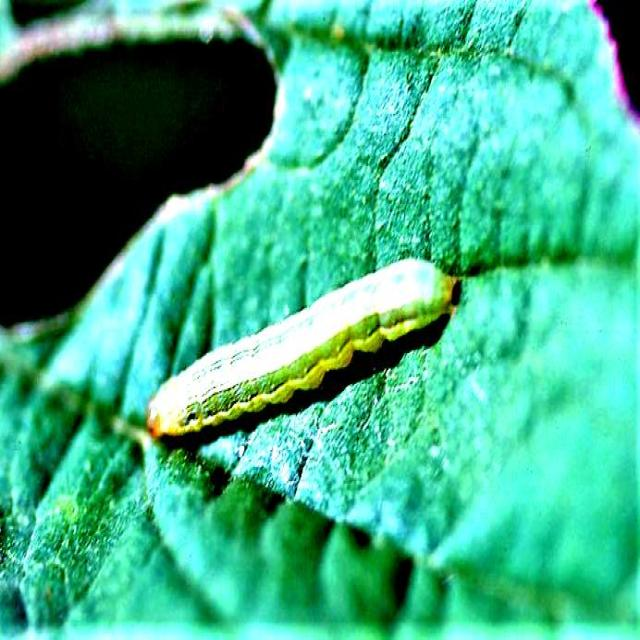armyworm: (144, 255, 462, 440)
